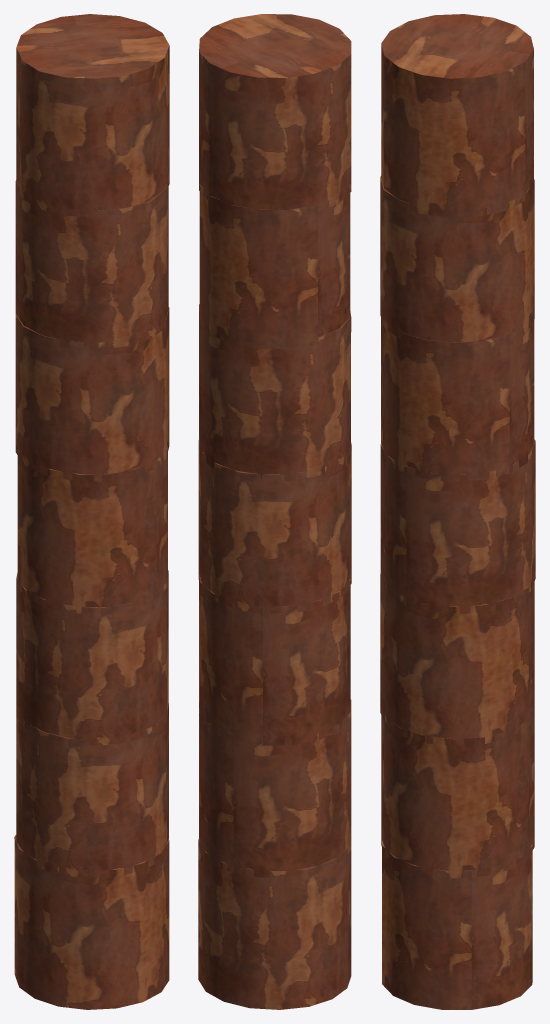
Rendered from lowerTrunk.fbx.
3 renders of one model, left to right at view 1: azimuth 30°, elevation 25°; view 2: azimuth 150°, elevation 25°; view 3: azimuth 270°, elevation 25°, orthographic.
Visible parts, largest first — view 1: ZeroRami.001; view 2: ZeroRami.001; view 3: ZeroRami.001.
Boxes of the visible parts, bbox=[...] form: ZeroRami.001: bbox=[14, 14, 169, 1009]; ZeroRami.001: bbox=[198, 14, 351, 1009]; ZeroRami.001: bbox=[380, 14, 535, 1009].
Bounding box in the file's own units: 203 × 1340 × 203.
